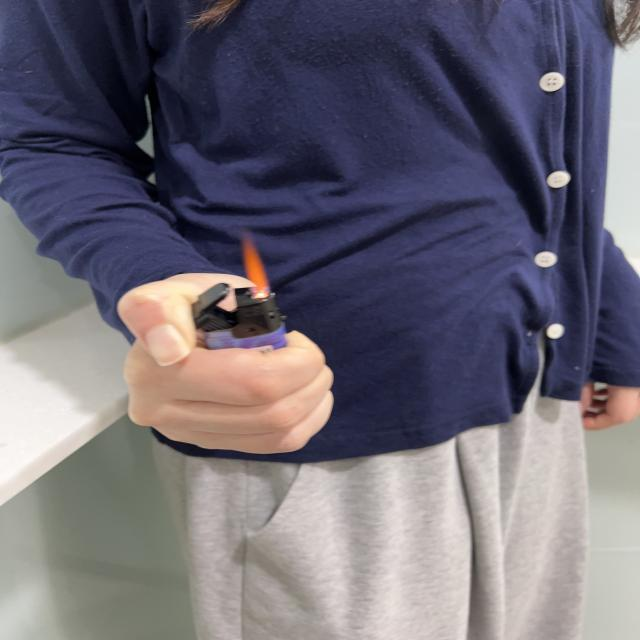fire: (241, 238, 272, 300)
